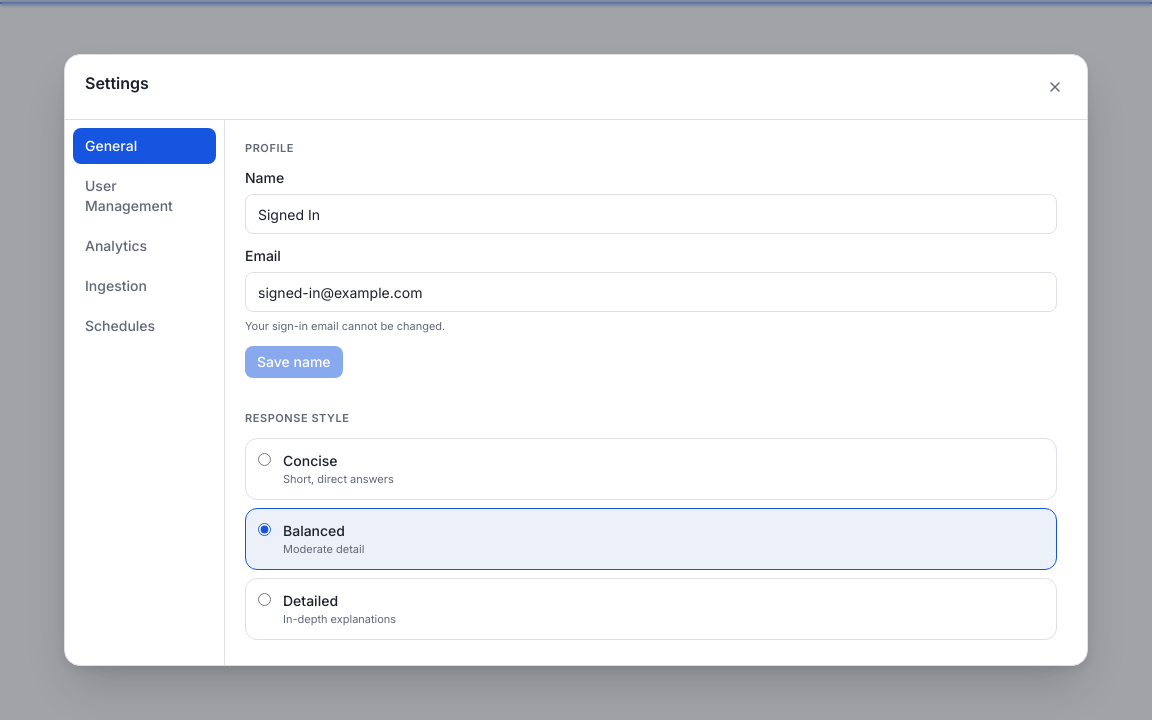
Test: SettingsDialog Admin section › shows the signed-in admin their own roles as labels, not toggles
This screenshot has width=1152, height=720.
Click the tab "User Management" at [144, 196], box [73, 168, 216, 224]
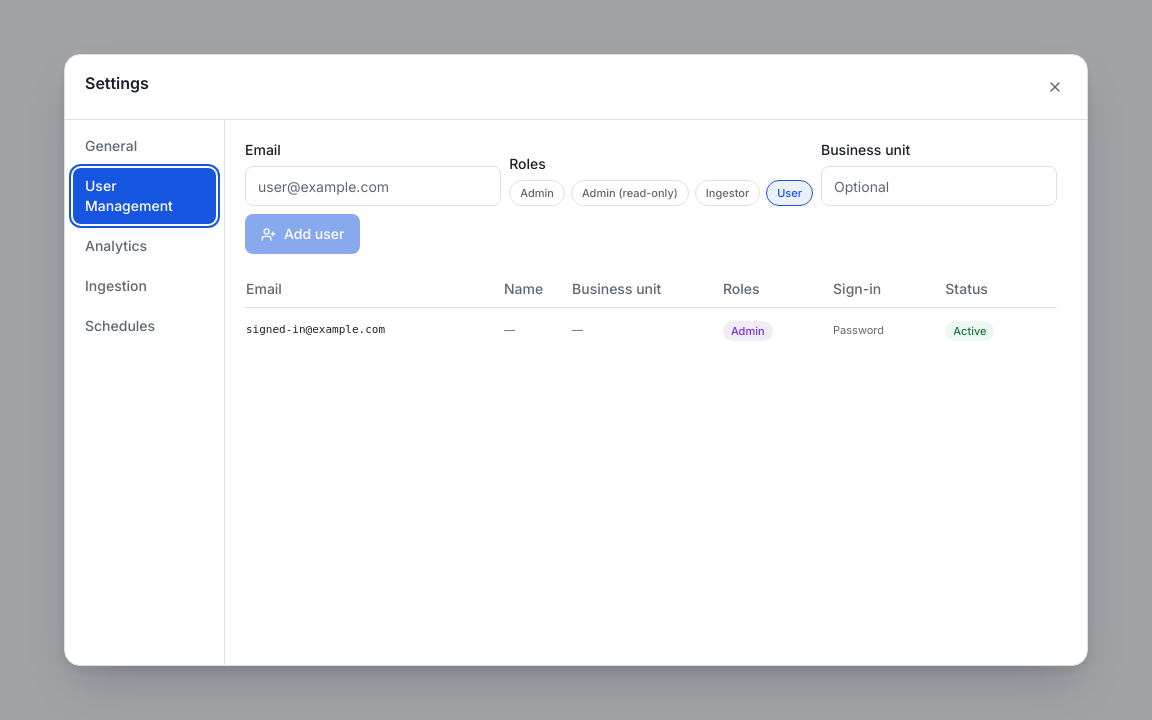
Result: the text "Admin" is shown at [723, 320, 773, 340]
